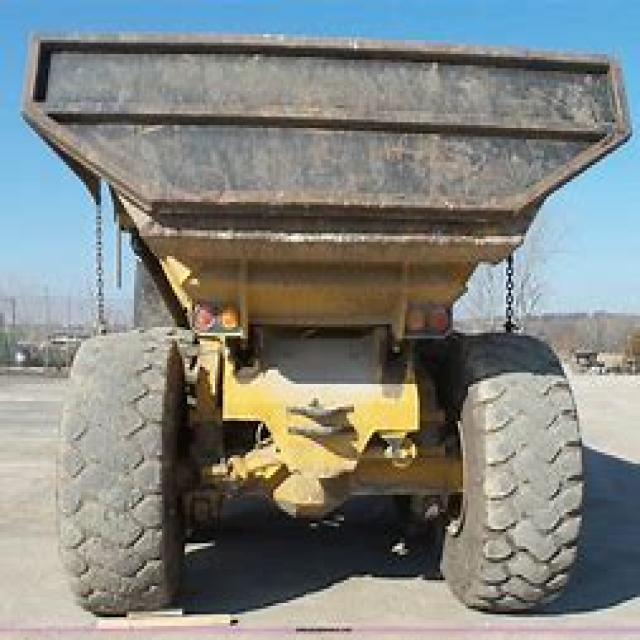dump_truck: (28, 22, 630, 628)
